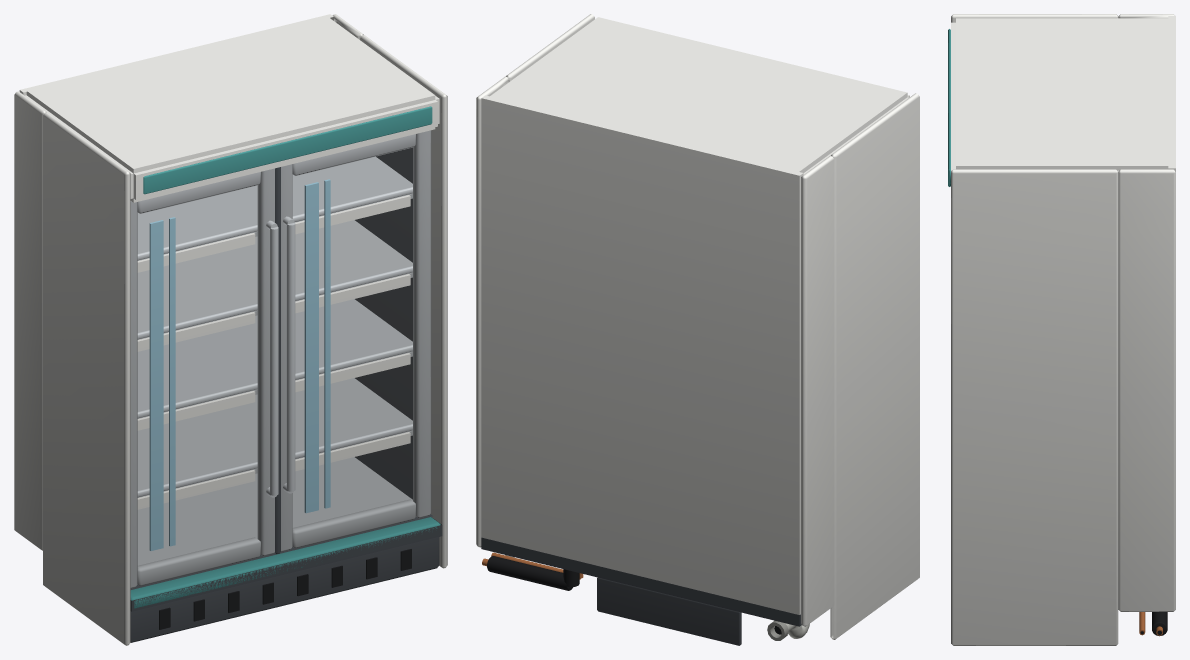
The model's file is CoolerDoors_2Door_15.glb.
The picture shows the model from 3 angles, left to right: view 1: azimuth 30°, elevation 25°; view 2: azimuth 150°, elevation 25°; view 3: azimuth 270°, elevation 25°; orthographic projection. The views are drawn at different scales.
Visible parts, largest first — view 1: SM_CoolerDoors_2Door_15; view 2: SM_CoolerDoors_2Door_15; view 3: SM_CoolerDoors_2Door_15.
Boxes of the visible parts, x1=… form: SM_CoolerDoors_2Door_15: x1=14, y1=14, x2=447, y2=645; SM_CoolerDoors_2Door_15: x1=476, y1=14, x2=919, y2=645; SM_CoolerDoors_2Door_15: x1=948, y1=14, x2=1175, y2=645.
Size of the model in its own units: 1.5 by 2.1 by 0.912.
1 material, 1 textured.
